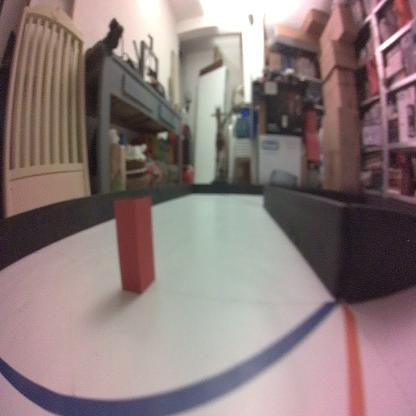red: (114, 195, 156, 296)
